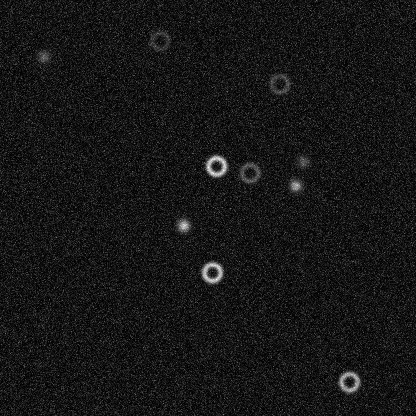Ring: (204, 153, 228, 177), (267, 71, 291, 95), (200, 260, 224, 284), (147, 28, 171, 52), (237, 160, 261, 184), (337, 369, 361, 393)
Spot: (175, 217, 191, 233), (35, 48, 51, 64), (295, 153, 311, 169), (287, 177, 303, 193)
